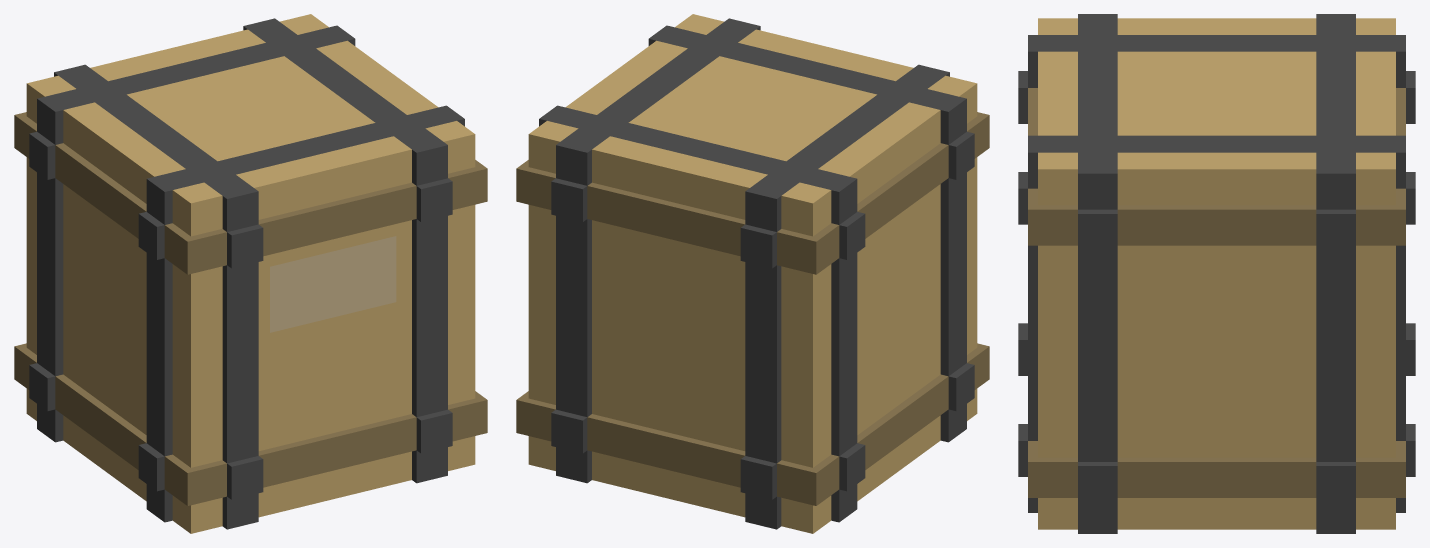
The model's file is Crate_1.obj.
The picture shows the model from 3 angles, left to right: view 1: azimuth 30°, elevation 25°; view 2: azimuth 150°, elevation 25°; view 3: azimuth 270°, elevation 25°; orthographic projection. The views are drawn at different scales.
Size of the model in its own units: 40 by 40 by 40.
